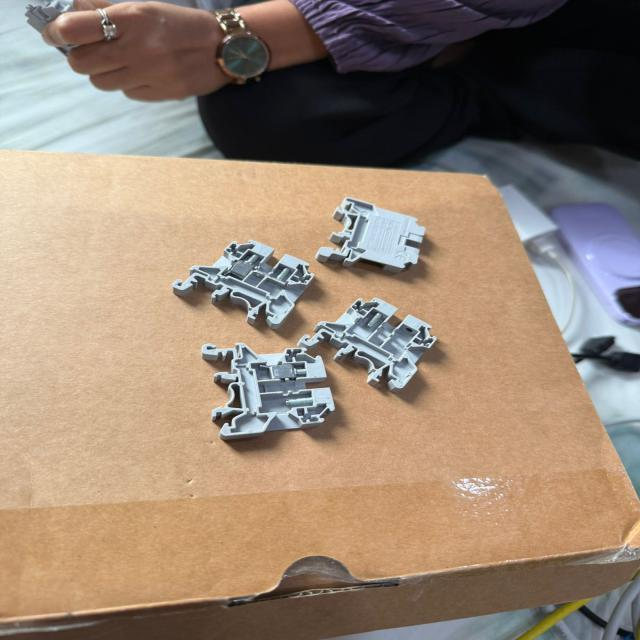Inverted: (314, 198, 428, 268)
Reject: (298, 296, 440, 392), (200, 342, 336, 442), (172, 236, 316, 329)
